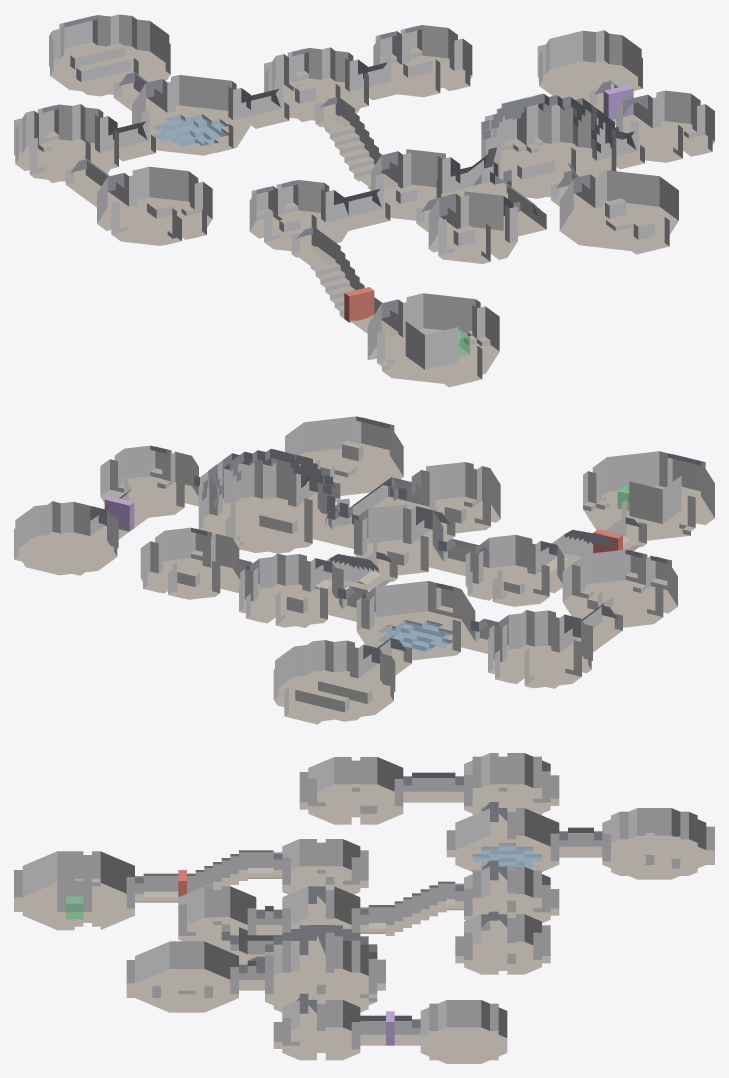
The model's file is pod_research_05.glb.
3 renders of one model, top to bottom at view 1: azimuth 30°, elevation 25°; view 2: azimuth 150°, elevation 25°; view 3: azimuth 270°, elevation 25°, orthographic. The views are drawn at different scales.
Parts seen in each view (by area): view 1: room:6, room:7, room:9, room:5, room:13, room:11, room:0, room:1, room:2, room:8, room:12, room:10 (+33 smaller); view 2: room:6, room:9, room:13, room:5, room:7, room:11, room:0, room:1, room:2, room:10, room:12, room:4 (+36 smaller); view 3: room:7, room:9, room:6, room:5, room:13, room:11, room:0, room:1, corridor:4, room:10, room:2, room:12 (+25 smaller).
Boxes of the visible parts, x1,y1,x2,y2 form: room:6: (481,94,616,198); room:7: (559,170,678,250); room:9: (49,14,170,96); room:5: (367,293,499,383); room:13: (537,30,642,104); room:11: (97,166,212,245); room:0: (14,104,118,182); room:1: (132,75,250,155); room:2: (264,47,368,121); room:8: (428,191,517,263); room:12: (373,25,472,97); room:10: (616,90,714,162); room:6: (198,449,332,553); room:9: (273,640,395,721); room:13: (14,501,118,575); room:5: (583,451,714,541); room:7: (285,416,403,495); room:11: (562,549,677,628); room:0: (488,610,592,688); room:1: (356,581,475,661); room:2: (239,553,343,627); room:10: (100,445,198,517); room:12: (140,527,239,599); room:4: (465,534,564,606); room:7: (135,941,238,1012); room:9: (602,808,706,879); room:6: (265,925,377,1016); room:5: (22,851,134,930); room:13: (420,1000,507,1063); room:11: (308,757,403,824); room:0: (464,753,550,820); room:1: (455,808,559,879); corridor:4: (135,850,282,902); room:10: (282,1000,360,1060); room:2: (464,866,550,930); room:12: (464,914,541,974).
Bounding box in the file's own units: 70 × 10 × 81.
